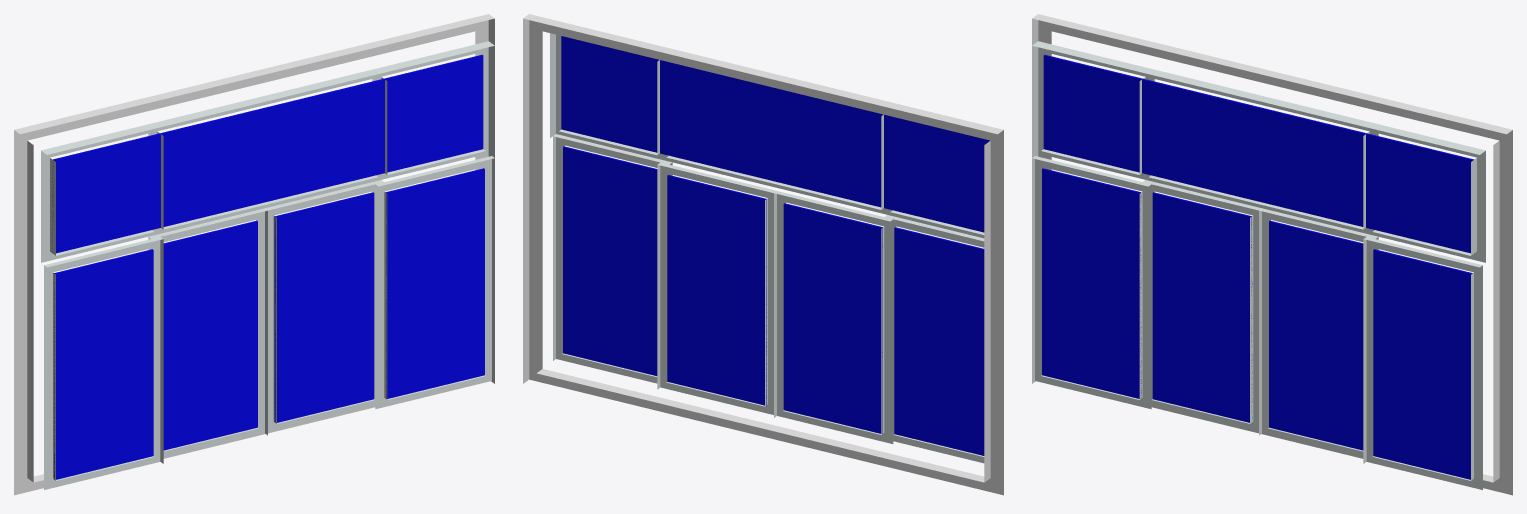
3 views of the same model, side by side, from view 1: azimuth 30°, elevation 25°; view 2: azimuth 150°, elevation 25°; view 3: azimuth 330°, elevation 25° (orthographic).
Visible parts, largest first — view 1: 188739; view 2: 188739; view 3: 188739.
Part boxes in pixels (x1,y1,x2,y2): 188739: [14, 14, 494, 495]; 188739: [523, 14, 1003, 495]; 188739: [1032, 14, 1512, 495].
Size of the model in its own units: 2.65 by 1.95 by 0.19.
